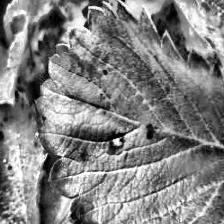Leaf Spot: (33, 0, 224, 224), (154, 0, 224, 157), (0, 86, 50, 224), (37, 155, 93, 224)
